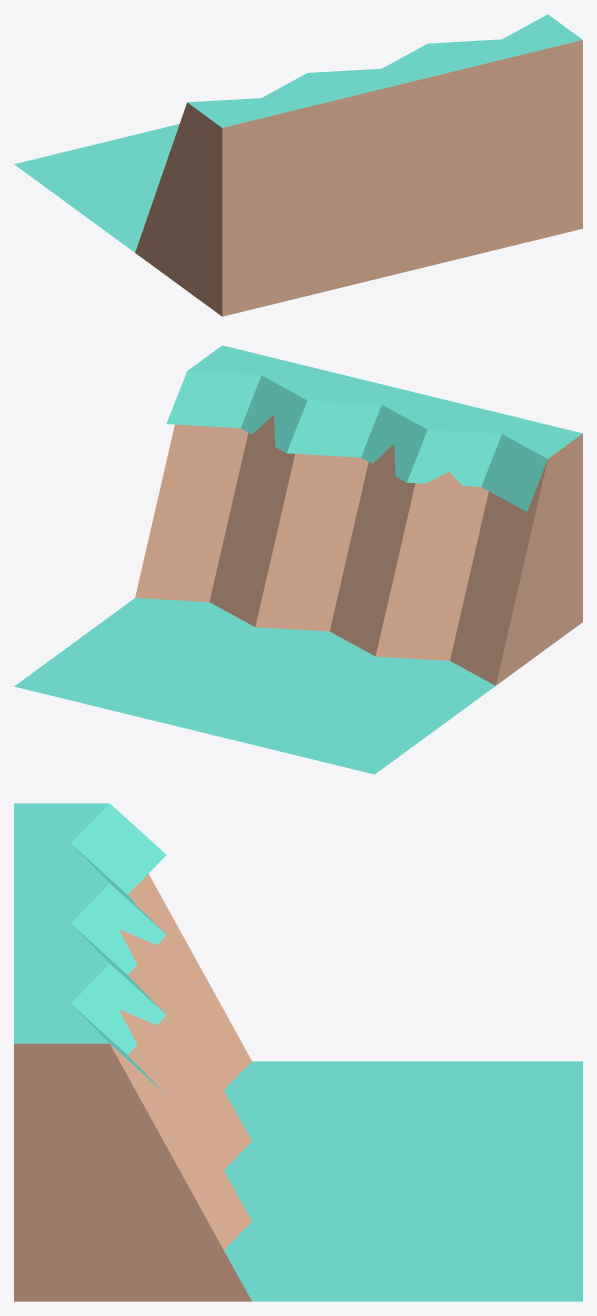
Rendered from cliff_half_rock_grass.glb.
3 views of the same model, one above another, from view 1: azimuth 30°, elevation 25°; view 2: azimuth 150°, elevation 25°; view 3: azimuth 270°, elevation 25° (orthographic). The views are drawn at different scales.
Visible parts, largest first — view 1: cliff_half_rock_grass; view 2: cliff_half_rock_grass; view 3: cliff_half_rock_grass.
Part boxes in pixels (box(x1,y1,x2,y2)): cliff_half_rock_grass: box(14, 14, 582, 316); cliff_half_rock_grass: box(14, 345, 582, 774); cliff_half_rock_grass: box(14, 803, 582, 1301).
Size of the model in its own units: 1 by 0.5 by 1.
